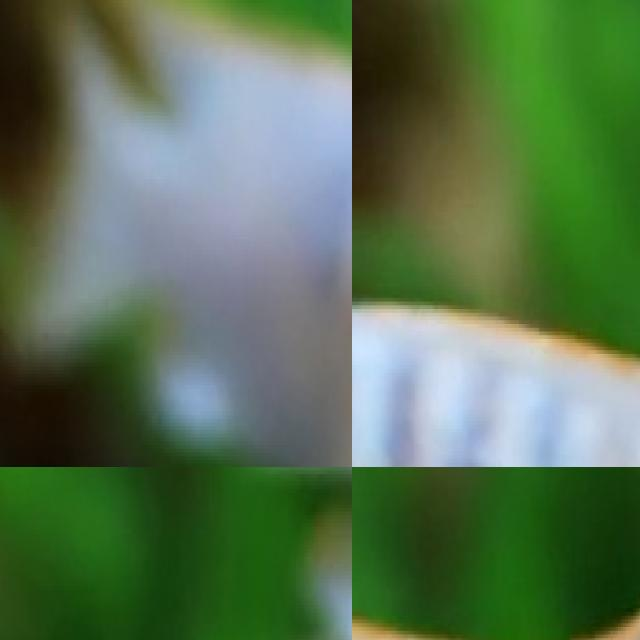fish: (0, 0, 352, 467), (352, 215, 640, 467)
